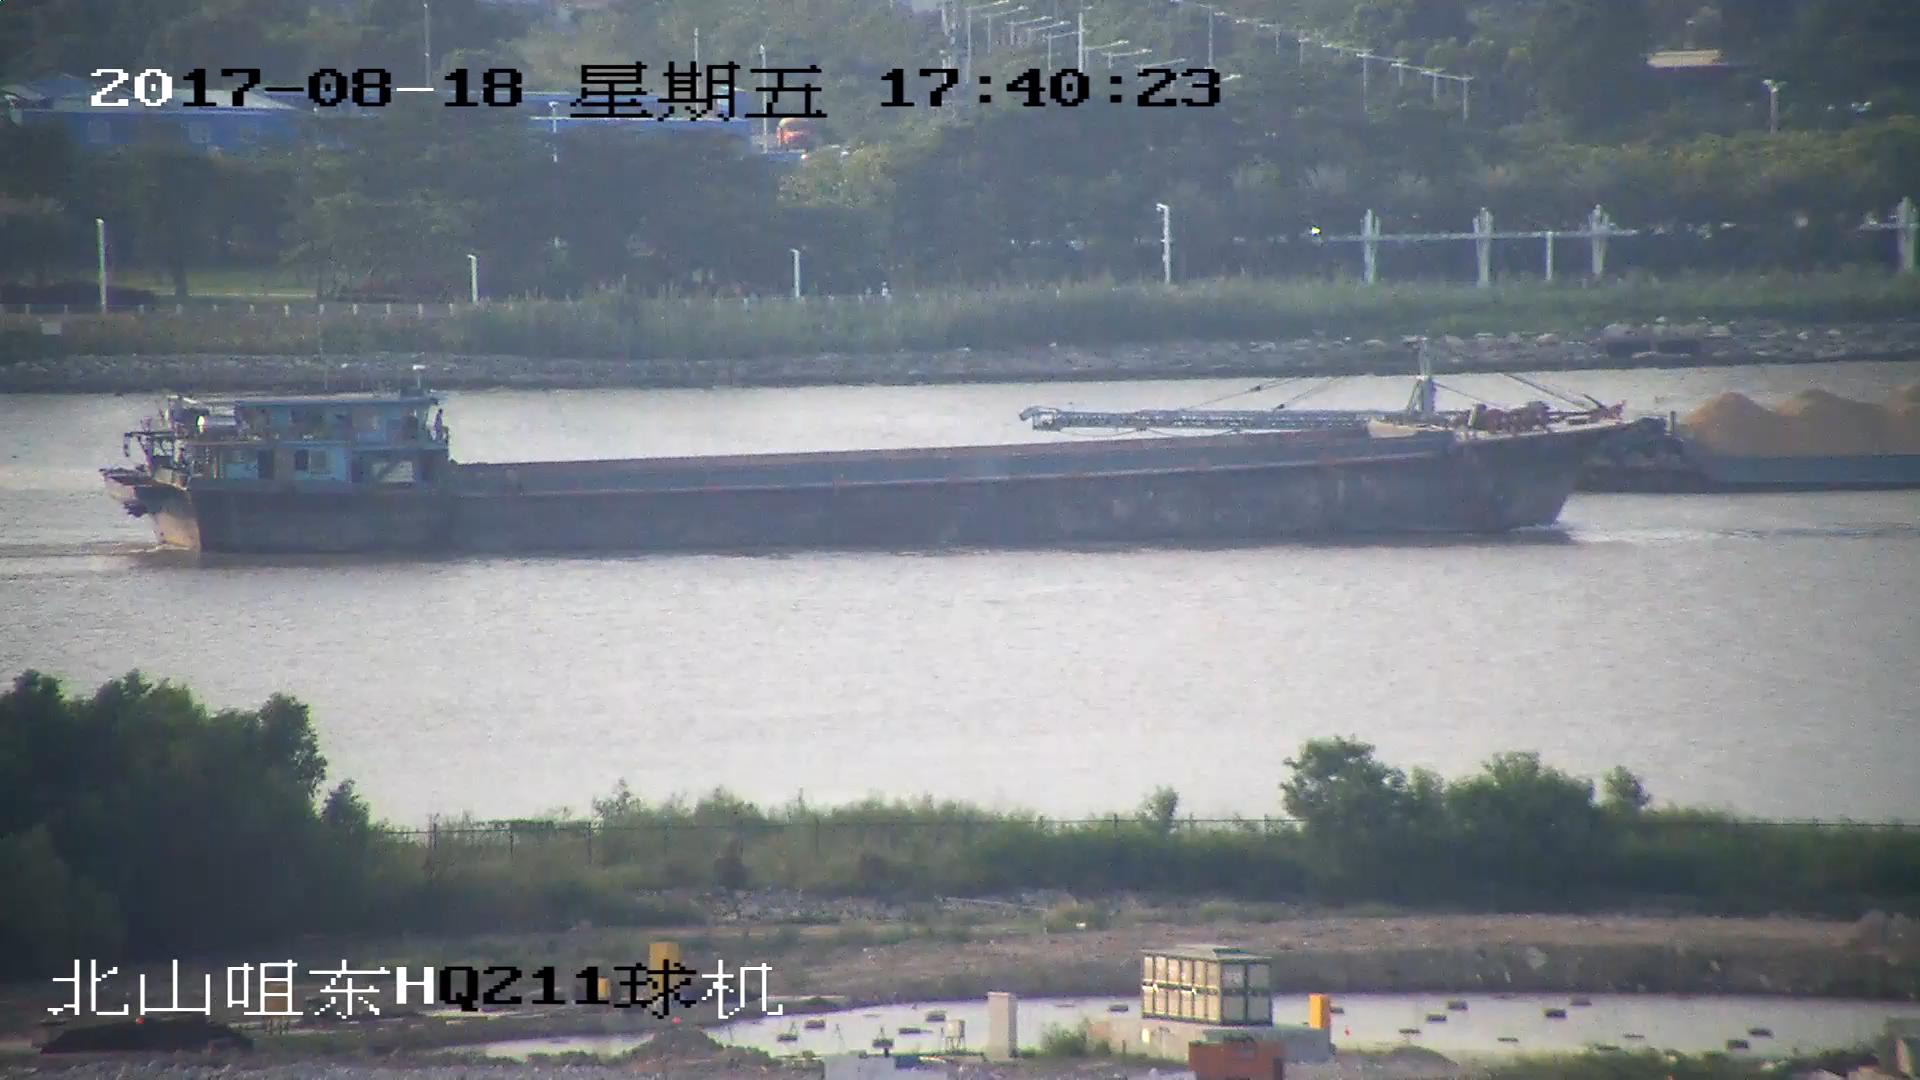bulk cargo carrier: (110, 386, 1652, 557)
ore carrier: (1025, 347, 1920, 498)
